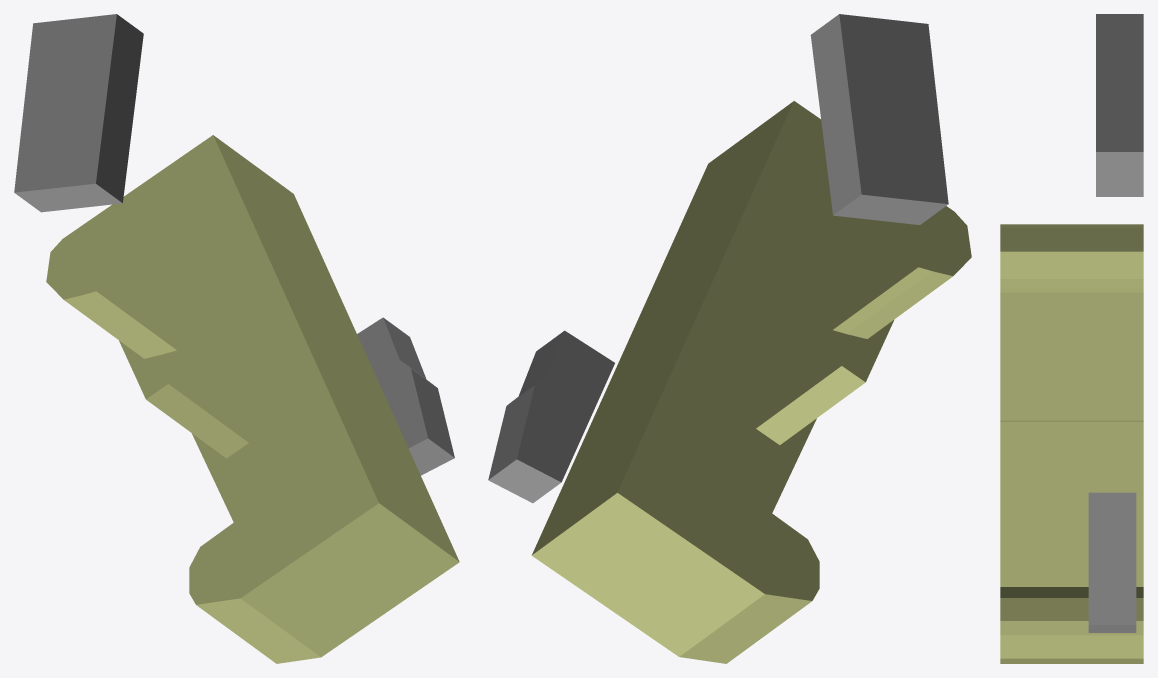
The picture shows the model from 3 angles, left to right: view 1: azimuth 30°, elevation 25°; view 2: azimuth 150°, elevation 25°; view 3: azimuth 270°, elevation 25°; orthographic projection. The views are drawn at different scales.
Parts seen in each view (by area): view 1: 0_1_1_3_3_1_3_1_0; view 2: 0_1_1_3_3_1_3_1_0; view 3: 0_1_1_3_3_1_3_1_0.
Part boxes in pixels (left/top/right/bottom): 0_1_1_3_3_1_3_1_0: left=14, top=14, right=459, bottom=663; 0_1_1_3_3_1_3_1_0: left=488, top=14, right=971, bottom=663; 0_1_1_3_3_1_3_1_0: left=1000, top=14, right=1143, bottom=663.
Bounding box in the file's own units: 26.39 × 38.49 × 9.
